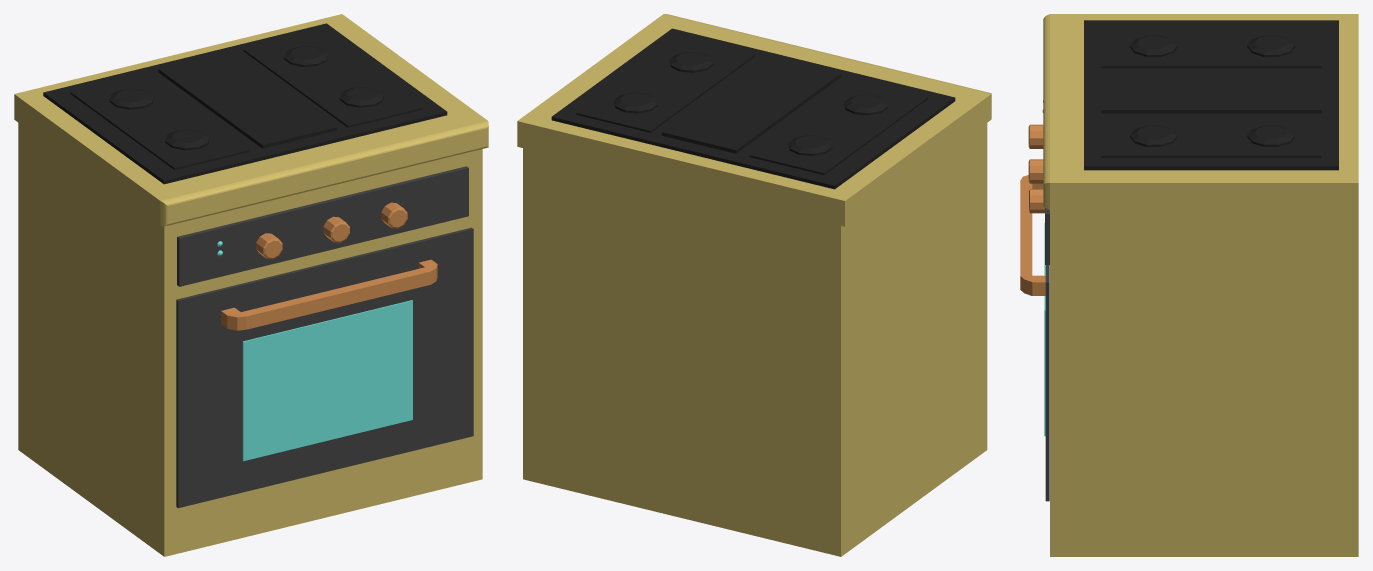
The model's file is estufa.fbx.
3 renders of one model, left to right at view 1: azimuth 30°, elevation 25°; view 2: azimuth 150°, elevation 25°; view 3: azimuth 270°, elevation 25°, orthographic. The views are drawn at different scales.
Parts seen in each view (by area): view 1: Box11_3, ChamferBox02_7, Line30_29, Box12_10, ChamferBox01_6, Loft05_9; view 2: Box11_3, Line30_29; view 3: Box11_3, Line30_29, Loft05_9, ChamferBox02_7.
Part boxes in pixels (box(x1,y1,x2,y2)): Box11_3: box(14, 14, 488, 556); ChamferBox02_7: box(176, 227, 473, 508); Line30_29: box(43, 23, 447, 184); Box12_10: box(242, 300, 412, 461); ChamferBox01_6: box(177, 166, 468, 286); Loft05_9: box(221, 259, 437, 330); Box11_3: box(517, 14, 991, 556); Line30_29: box(551, 28, 955, 189); Box11_3: box(1043, 14, 1358, 556); Line30_29: box(1084, 20, 1338, 170); Loft05_9: box(1020, 175, 1045, 295); ChamferBox02_7: box(1045, 265, 1049, 501).
Size of the model in its own units: 259 by 277 by 219.
